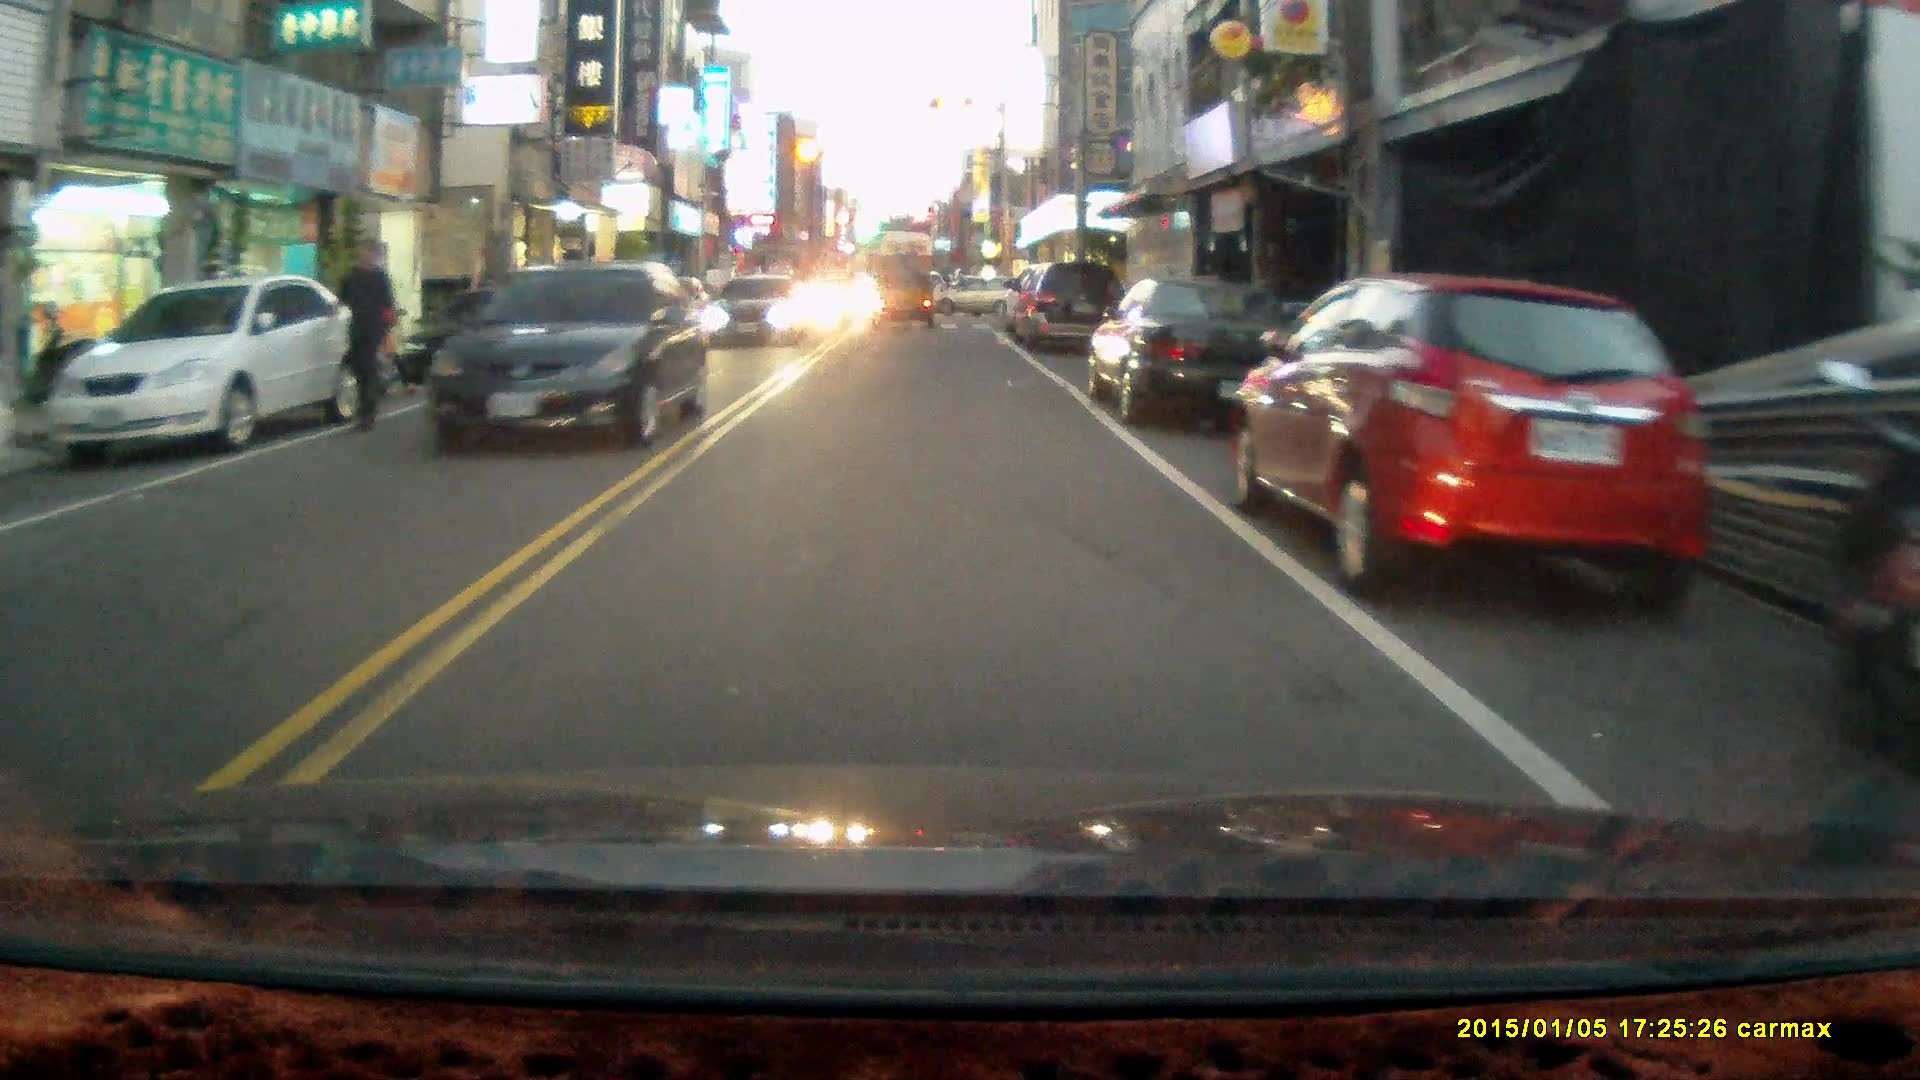pedestrian: (323, 236, 401, 434)
vehicle: (1231, 271, 1714, 621), (37, 274, 360, 470), (411, 263, 711, 458), (1086, 282, 1310, 433), (1004, 266, 1132, 361), (707, 282, 803, 356), (870, 261, 940, 341)
